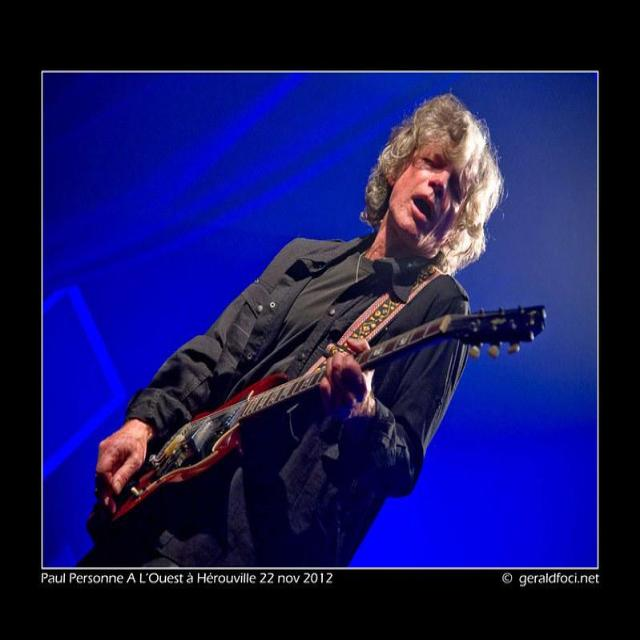guitar: (109, 367, 324, 523)
